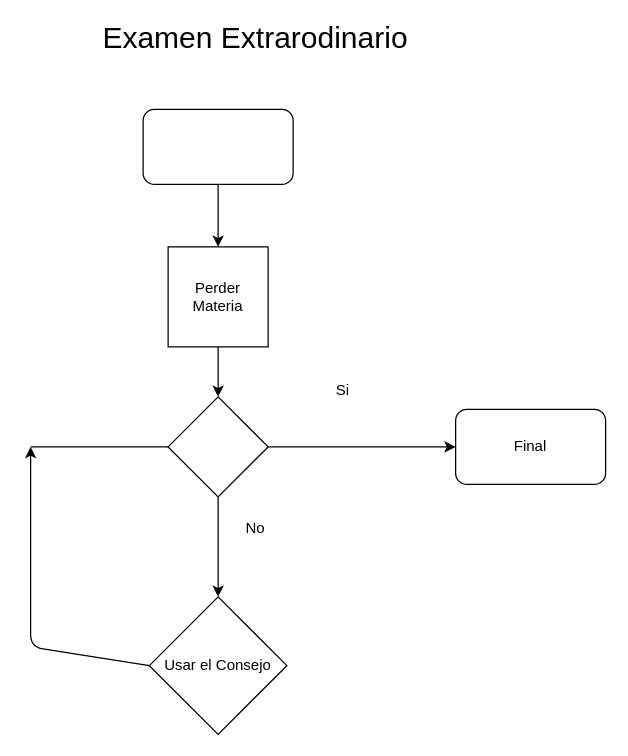
The diagram is 628 pixels wide and 756 high, and some of its shapes have lost their labels. The centre of each missing label's shape, as x and y in pixels:
"Aprovo el Examen?" goes at point (217, 446).
"Inicio" goes at point (217, 146).
